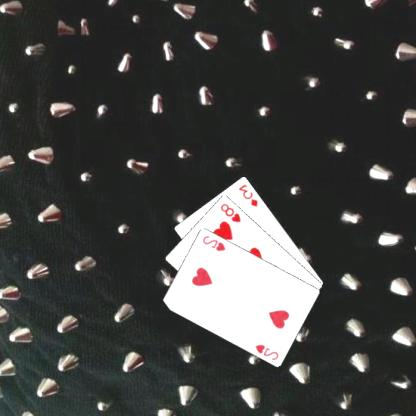2H: (201, 233, 229, 252), (254, 342, 281, 361)
3D: (238, 181, 261, 208)
8H: (219, 200, 244, 223)
